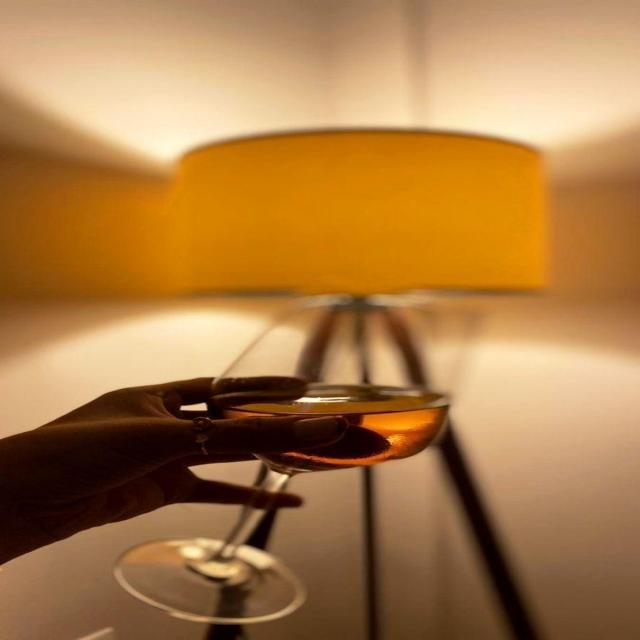glass-wine: (109, 289, 456, 631)
